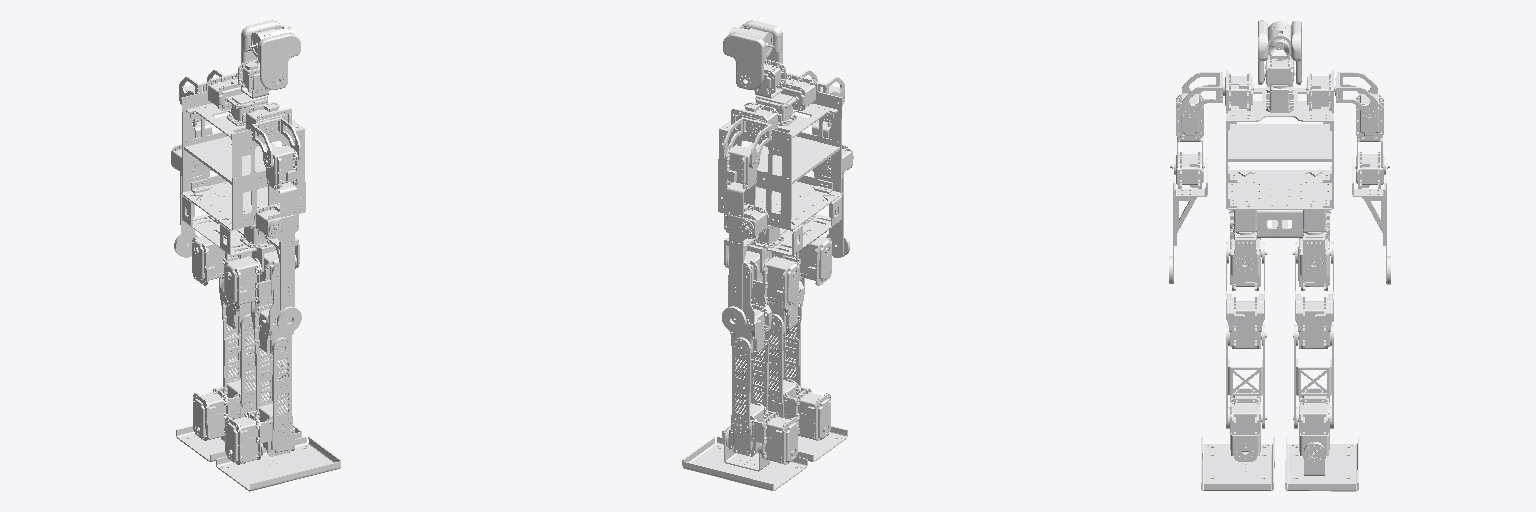
--- Render facts (derived) ---
Views: 3 orthographic renders of the robot side by side, from view 1: azimuth 30°, elevation 25°; view 2: azimuth 150°, elevation 25°; view 3: azimuth 270°, elevation 25°.
Model altair with 26 links and 25 joints (20 revolute, 5 fixed), rooted at odom, posed every joint at zero.
Visible links, largest first — view 1: body_link, r_ank_roll_link, head_tilt_link, r_ank_pitch_link, r_sho_roll_link, r_knee_link, r_hip_roll_link, l_ank_pitch_link, l_knee_link, r_el_link, r_hip_pitch_link, l_hip_roll_link (+6 smaller); view 2: body_link, head_tilt_link, l_ank_pitch_link, l_sole, l_sho_roll_link, l_knee_link, l_hip_roll_link, r_ank_pitch_link, r_knee_link, l_el_link, l_hip_pitch_link, r_hip_roll_link (+7 smaller); view 3: body_link, r_ank_roll_link, l_sole, r_ank_pitch_link, l_sho_roll_link, r_sho_roll_link, l_hip_pitch_link, r_hip_pitch_link, head_tilt_link, l_ank_pitch_link, l_knee_link, r_knee_link (+10 smaller).
Boxes of the visible links, x1,y1,x2,y2 form: body_link: (181,72,305,256); r_ank_roll_link: (216,437,340,491); head_tilt_link: (241,20,300,89); r_ank_pitch_link: (225,403,294,464); r_sho_roll_link: (256,145,298,238); r_knee_link: (255,337,291,434); r_hip_roll_link: (224,251,278,309); l_ank_pitch_link: (193,380,260,440); l_knee_link: (223,314,255,410); r_el_link: (254,214,301,332); r_hip_pitch_link: (251,261,293,356); l_hip_roll_link: (192,230,242,285); body_link: (718,73,842,256); head_tilt_link: (723,20,782,89); l_ank_pitch_link: (728,403,798,464); l_sole: (682,436,807,490); l_sho_roll_link: (724,144,766,238); l_knee_link: (732,337,768,434); l_hip_roll_link: (744,251,799,309); r_ank_pitch_link: (763,380,830,440); r_knee_link: (768,314,800,410); l_el_link: (722,213,768,332); l_hip_pitch_link: (730,261,772,356); r_hip_roll_link: (781,230,831,285); body_link: (1219,70,1340,237); r_ank_roll_link: (1201,437,1274,490); l_sole: (1285,437,1358,491); r_ank_pitch_link: (1230,388,1266,461); l_sho_roll_link: (1355,93,1389,188); r_sho_roll_link: (1170,93,1204,188); l_hip_pitch_link: (1293,242,1333,348); r_hip_pitch_link: (1226,242,1266,348); head_tilt_link: (1258,20,1301,84); l_ank_pitch_link: (1293,388,1329,458); l_knee_link: (1294,325,1333,428); r_knee_link: (1226,325,1264,428).
Size in the robot's own frame: 0.1585 by 0.2871 by 0.6366 metres.
23 mesh visuals loaded from 22 distinct referenced files (22 binary STL).

The robot description file, URDF, robot "altair":
<?xml version="1.0" ?>
<!-- =================================================================================== -->
<!-- |    This document was autogenerated by xacro from altair_compose.urdf.xacro      | -->
<!-- |    EDITING THIS FILE BY HAND IS NOT RECOMMENDED                                 | -->
<!-- =================================================================================== -->
<robot name="altair">
  <!-- README! -->
  <!-- This is xacro file is for configure ros2_control, managing available hardware: sensors,
  joints, etc.
  This configuration will be used by ros2_control hardware abstraction, there are 20 joints, 1 IMU,
  and 1 Microcontroller hardware.
  There are 3 modes available: 
  1. real_mode: true = ros2_control will call MicrocontrollerHardware and DynamixelHardware. This is
  used for real robot.
  2. mock_mode: true = ros2_control will call GenericSystem. This is used for simulation with mock
  mode. or no pyshics sim, just a mock.
  3. sim_mode: true  = ros2_control will call GazeboSimSystem. This is used for simulation with gazebo
  sim.
  !!! Caution !!! Modes can only be set true for single mode. It cant be true for multiple mode. Set
  it with caution.
  Modes can be set in launch file. -->
  <link name="odom"/>
  <joint name="base_fixed" type="fixed">
    <parent link="odom"/>
    <child link="body_link"/>
    <origin rpy="0 0 0" xyz="0 0 0.0"/>
  </joint>
  <!--   body link-->
  <link name="body_link">
    <visual>
      <origin rpy="0.00000 0.00000 0.00000" xyz="0.00000 0.00000 0.00000"/>
      <geometry>
        <mesh filename="meshes/body.stl" scale="1.00000 1.00000 1.00000"/>
      </geometry>
      <material name="254,254,255.002">
        <color rgba="0.99216 0.99216 1.00000 1.00000"/>
      </material>
    </visual>
    <collision>
      <origin rpy="0.00000 0.00000 0.00000" xyz="0.00000 0.00000 0.00000"/>
      <geometry>
        <mesh filename="meshes/body.stl" scale="1.00000 1.00000 1.00000"/>
      </geometry>
      <material name="254,254,255.002">
        <color rgba="0.99216 0.99216 1.00000 1.00000"/>
      </material>
    </collision>
    <inertial>
      <inertia ixx="0.00639" ixy="-0.00001" ixz="-0.00019" iyy="0.00522" iyz="-0.00003" izz="0.00297"/>
      <origin rpy="0.00000 0.00000 0.00000" xyz="0.00091 -0.00121 0.09355"/>
      <mass value="1.34928"/>
    </inertial>
  </link>
  <!-- imu joint -->
  <joint name="imu_fixed" type="fixed">
    <parent link="body_link"/>
    <child link="imu_link"/>
    <origin rpy="0 0 0" xyz="0 0 0"/>
  </joint>
  <link name="imu_link"/>
  <!-- left hip yaw joint -->
  <joint name="l_hip_yaw" type="revolute">
    <parent link="body_link"/>
    <child link="l_hip_yaw_link"/>
    <origin rpy="0.00000 0.00000 0.00000" xyz="0.02448 0.04340 0.03887"/>
    <axis xyz="0.00000 0.00000 -1.00000"/>
    <limit effort="1000" lower="-2.827433388230814" upper="2.827433388230814" velocity="100"/>
    <dynamics damping="0.1" friction="0.0"/>
  </joint>
  <!-- left hip yaw link -->
  <link name="l_hip_yaw_link">
    <visual>
      <origin rpy="0.00000 0.00000 0.00000" xyz="-0.02809 -0.00006 -0.06018"/>
      <geometry>
        <mesh filename="meshes/l_hip_yaw.stl" scale="1.00000 1.00000 1.00000"/>
      </geometry>
      <material name="254,254,255.002">
        <color rgba="0.99216 0.99216 1.00000 1.00000"/>
      </material>
    </visual>
    <collision>
      <origin rpy="0.00000 0.00000 0.00000" xyz="-0.02809 -0.00006 -0.06018"/>
      <geometry>
        <mesh filename="meshes/l_hip_yaw.stl" scale="1.00000 1.00000 1.00000"/>
      </geometry>
      <material name="254,254,255.002">
        <color rgba="0.99216 0.99216 1.00000 1.00000"/>
      </material>
    </collision>
    <inertial>
      <inertia ixx="3.006331e-06" ixy="0" ixz="0" iyy="5.715429e-06" iyz="0" izz="4.2714855e-06"/>
      <origin rpy="0.00000 0.00000 0.00000" xyz="0.00587 -0.00015 -0.05907"/>
      <mass value="0.01181"/>
    </inertial>
  </link>
  <!-- left hip roll joint -->
  <joint name="l_hip_roll" type="revolute">
    <parent link="l_hip_yaw_link"/>
    <child link="l_hip_roll_link"/>
    <origin rpy="0.00000 0.00000 0.00000" xyz="-0.06106 -0.00006 -0.07670"/>
    <axis xyz="-1.00000 0.00000 0.00000"/>
    <limit effort="1000" lower="-2.827433388230814" upper="2.827433388230814" velocity="100"/>
    <dynamics damping="0.1" friction="0.0"/>
  </joint>
  <!-- left hip roll link -->
  <link name="l_hip_roll_link">
    <visual>
      <origin rpy="0.00000 0.00000 0.00000" xyz="0.03297 -0.00000 0.01652"/>
      <geometry>
        <mesh filename="meshes/l_hip_roll.stl" scale="1.00000 1.00000 1.00000"/>
      </geometry>
      <material name="254,254,255.002">
        <color rgba="0.99216 0.99216 1.00000 1.00000"/>
      </material>
    </visual>
    <collision>
      <origin rpy="0.00000 0.00000 0.00000" xyz="0.03297 -0.00000 0.01652"/>
      <geometry>
        <mesh filename="meshes/l_hip_roll.stl" scale="1.00000 1.00000 1.00000"/>
      </geometry>
      <material name="254,254,255.002">
        <color rgba="0.99216 0.99216 1.00000 1.00000"/>
      </material>
    </collision>
    <inertial>
      <inertia ixx="0.00006" ixy="0.00000" ixz="-0.00001" iyy="0.00016" iyz="0.00000" izz="0.00014"/>
      <origin rpy="0.00000 0.00000 0.00000" xyz="0.03366 -0.00021 -0.01480"/>
      <mass value="0.17886"/>
    </inertial>
  </link>
  <!-- left hip pitch joint -->
  <joint name="l_hip_pitch" type="revolute">
    <parent link="l_hip_roll_link"/>
    <child link="l_hip_pitch_link"/>
    <origin rpy="0.00000 0.00000 0.00000" xyz="0.05652 -0.02942 0.00064"/>
    <axis xyz="0.00000 1.00000 0.00000"/>
    <limit effort="1000" lower="-2.827433388230814" upper="2.827433388230814" velocity="100"/>
    <dynamics damping="0.1" friction="0.0"/>
  </joint>
  <!-- left hip pitch link -->
  <link name="l_hip_pitch_link">
    <visual>
      <origin rpy="0.00000 0.00000 0.00000" xyz="0.00072 0.02934 -0.09142"/>
      <geometry>
        <mesh filename="meshes/l_hip_pitch.stl" scale="1.00000 1.00000 1.00000"/>
      </geometry>
      <material name="254,254,255.002">
        <color rgba="0.99216 0.99216 1.00000 1.00000"/>
      </material>
    </visual>
    <collision>
      <origin rpy="0.00000 0.00000 0.00000" xyz="0.00072 0.02934 -0.09142"/>
      <geometry>
        <mesh filename="meshes/l_hip_pitch.stl" scale="1.00000 1.00000 1.00000"/>
      </geometry>
      <material name="254,254,255.002">
        <color rgba="0.99216 0.99216 1.00000 1.00000"/>
      </material>
    </collision>
    <inertial>
      <inertia ixx="0.00016" ixy="-0.00000" ixz="0.00000" iyy="0.00014" iyz="-0.00001" izz="0.00004"/>
      <origin rpy="0.00000 0.00000 0.00000" xyz="0.00062 0.02954 -0.07102"/>
      <mass value="0.11543"/>
    </inertial>
  </link>
  <!-- left knee joint -->
  <joint name="l_knee" type="revolute">
    <parent link="l_hip_pitch_link"/>
    <child link="l_knee_link"/>
    <origin rpy="0.00000 0.00000 0.00000" xyz="0.00089 -0.00563 -0.11729"/>
    <axis xyz="0.00000 1.00000 0.00000"/>
    <limit effort="1000" lower="-2.827433388230814" upper="2.827433388230814" velocity="100"/>
    <dynamics damping="0.1" friction="0.0"/>
  </joint>
  <!-- left knee link -->
  <link name="l_knee_link">
    <visual>
      <origin rpy="0.00000 0.00000 0.00000" xyz="0.00120 0.03658 -0.05859"/>
      <geometry>
        <mesh filename="meshes/l_knee.stl" scale="1.00000 1.00000 1.00000"/>
      </geometry>
      <material name="254,254,255.002">
        <color rgba="0.99216 0.99216 1.00000 1.00000"/>
      </material>
    </visual>
    <collision>
      <origin rpy="0.00000 0.00000 0.00000" xyz="0.00120 0.03658 -0.05859"/>
      <geometry>
        <mesh filename="meshes/l_knee.stl" scale="1.00000 1.00000 1.00000"/>
      </geometry>
      <material name="254,254,255.002">
        <color rgba="0.99216 0.99216 1.00000 1.00000"/>
      </material>
    </collision>
    <inertial>
      <inertia ixx="0.00006" ixy="-0.00000" ixz="0.00000" iyy="0.00004" iyz="-0.00000" izz="0.00002"/>
      <origin rpy="0.00000 0.00000 0.00000" xyz="0.00138 0.03706 -0.05861"/>
      <mass value="0.04015"/>
    </inertial>
  </link>
  <!-- left ankle pitch joint -->
  <joint name="l_ank_pitch" type="revolute">
    <parent link="l_knee_link"/>
    <child link="l_ank_pitch_link"/>
    <origin rpy="0.00000 0.00000 0.00000" xyz="0.00062 0.04741 -0.11684"/>
    <axis xyz="0.00000 -1.00000 0.00000"/>
    <limit effort="1000" lower="-2.827433388230814" upper="2.827433388230814" velocity="100"/>
    <dynamics damping="0.1" friction="0.0"/>
  </joint>
  <!-- left ankle pitch link -->
  <link name="l_ank_pitch_link">
    <visual>
      <origin rpy="0.00000 0.00000 0.00000" xyz="-0.00066 -0.01275 -0.01491"/>
      <geometry>
        <mesh filename="meshes/l_ank_pitch.stl" scale="1.00000 1.00000 1.00000"/>
      </geometry>
      <material name="254,254,255.002">
        <color rgba="0.99216 0.99216 1.00000 1.00000"/>
      </material>
    </visual>
    <collision>
      <origin rpy="0.00000 0.00000 0.00000" xyz="-0.00066 -0.01275 -0.01491"/>
      <geometry>
        <mesh filename="meshes/l_ank_pitch.stl" scale="1.00000 1.00000 1.00000"/>
      </geometry>
      <material name="254,254,255.002">
        <color rgba="0.99216 0.99216 1.00000 1.00000"/>
      </material>
    </collision>
    <inertial>
      <inertia ixx="0.00006" ixy="0.00000" ixz="0.00000" iyy="0.00016" iyz="0.00000" izz="0.00014"/>
      <origin rpy="0.00000 0.00000 0.00000" xyz="-0.02272 -0.01248 -0.01825"/>
      <mass value="0.17886"/>
    </inertial>
  </link>
  <!-- left ankle roll joint -->
  <joint name="l_ank_roll" type="revolute">
    <parent link="l_ank_pitch_link"/>
    <child link="l_ank_roll_link"/>
    <origin rpy="0.00000 0.00000 0.00000" xyz="0.00651 -0.01247 -0.03586"/>
    <axis xyz="1.00000 0.00000 0.00000"/>
    <limit effort="1000" lower="-2.827433388230814" upper="2.827433388230814" velocity="100"/>
    <dynamics damping="0.1" friction="0.0"/>
  </joint>
  <!-- left ankle roll link -->
  <link name="l_ank_roll_link">
    <visual>
      <origin rpy="0.00000 0.00000 0.00000" xyz="0.00130 0.00747 -0.02698"/>
      <geometry>
        <mesh filename="meshes/l_ank_roll.005.stl" scale="1.00000 1.00000 1.00000"/>
      </geometry>
      <material name="254,254,255.002">
        <color rgba="0.99216 0.99216 1.00000 1.00000"/>
      </material>
    </visual>
    <collision>
      <origin rpy="0.00000 0.00000 0.00000" xyz="0.00130 0.00747 -0.02698"/>
      <geometry>
        <mesh filename="meshes/l_ank_roll.005.stl" scale="1.00000 1.00000 1.00000"/>
      </geometry>
      <material name="254,254,255.002">
        <color rgba="0.99216 0.99216 1.00000 1.00000"/>
      </material>
    </collision>
    <inertial>
      <inertia ixx="0.00007" ixy="0.00000" ixz="0.00000" iyy="0.00014" iyz="0.00000" izz="0.00018"/>
      <origin rpy="0.00000 0.00000 0.00000" xyz="0.00130 0.00747 -0.02698"/>
      <mass value="0.06934"/>
    </inertial>
  </link>
  <joint name="l_sole_joint" type="fixed">
    <origin rpy="0.00000 0.00000 0.00000" xyz="-0.00000 0.00747 -0.03327"/>
    <parent link="l_ank_roll_link"/>
    <child link="l_sole"/>
  </joint>
  <link name="l_sole">
    <collision name="l_ank_roll_collision">
      <origin rpy="0.00000 0.00000 0.00000" xyz="-0.00330 0.00294 0.00309"/>
      <geometry>
        <box size="0.14500 0.09500 0.01200"/>
      </geometry>
    </collision>
    <inertial>
      <inertia ixx="0.00001" ixy="-0.00000" ixz="-0.00000" iyy="0.00002" iyz="-0.00000" izz="0.00003"/>
      <origin rpy="0.00000 0.00000 0.00000" xyz="-0.00064 0.00279 -0.00004"/>
      <mass value="0.01000"/>
    </inertial>
    <visual>
      <origin rpy="0.00000 0.00000 0.00000" xyz="0.00130 0.00000 0.00629"/>
      <material name="254,254,255.002">
        <color rgba="0.99216 0.99216 1.00000 1.00000"/>
      </material>
      <geometry>
        <mesh filename="meshes/l_ank_roll.stl" scale="1.00000 1.00000 1.00000"/>
      </geometry>
    </visual>
  </link>
  <!-- right hip yaw joint -->
  <joint name="r_hip_yaw" type="revolute">
    <parent link="body_link"/>
    <child link="r_hip_yaw_link"/>
    <origin rpy="0.00000 0.00000 0.00000" xyz="0.02401 -0.04596 0.03887"/>
    <axis xyz="0.00000 0.00000 -1.00000"/>
    <limit effort="1000" lower="-2.827433388230814" upper="2.827433388230814" velocity="100"/>
    <dynamics damping="0.1" friction="0.0"/>
  </joint>
  <!-- right hip yaw link -->
  <link name="r_hip_yaw_link">
    <visual>
      <origin rpy="0.00000 0.00000 0.00000" xyz="-0.02389 0.00050 -0.08787"/>
      <geometry>
        <mesh filename="meshes/r_hip_yaw.stl" scale="1.00000 1.00000 1.00000"/>
      </geometry>
      <material name="254,254,255.002">
        <color rgba="0.99216 0.99216 1.00000 1.00000"/>
      </material>
    </visual>
    <collision>
      <origin rpy="0.00000 0.00000 0.00000" xyz="-0.02389 0.00050 -0.08787"/>
      <geometry>
        <mesh filename="meshes/r_hip_yaw.stl" scale="1.00000 1.00000 1.00000"/>
      </geometry>
      <material name="254,254,255.002">
        <color rgba="0.99216 0.99216 1.00000 1.00000"/>
      </material>
    </collision>
    <inertial>
      <inertia ixx="3.0e-06" ixy="0" ixz="0" iyy="5.7e-06" iyz="0" izz="4.0e-06"/>
      <origin rpy="0.00000 0.00000 0.00000" xyz="0.00609 0.00022 -0.05911"/>
      <mass value="0.01181"/>
    </inertial>
  </link>
  <!-- right hip roll joint -->
  <joint name="r_hip_roll" type="revolute">
    <parent link="r_hip_yaw_link"/>
    <child link="r_hip_roll_link"/>
    <origin rpy="0.00000 0.00000 0.00000" xyz="-0.06059 0.00050 -0.07670"/>
    <axis xyz="-1.00000 0.00000 0.00000"/>
    <limit effort="1000" lower="-2.827433388230814" upper="2.827433388230814" velocity="100"/>
    <dynamics damping="0.1" friction="0.0"/>
  </joint>
  <!-- right hip roll link -->
  <link name="r_hip_roll_link">
    <visual>
      <origin rpy="0.00000 0.00000 0.00000" xyz="0.03670 0.00000 -0.01117"/>
      <geometry>
        <mesh filename="meshes/r_hip_roll.stl" scale="1.00000 1.00000 1.00000"/>
      </geometry>
      <material name="254,254,255.002">
        <color rgba="0.99216 0.99216 1.00000 1.00000"/>
      </material>
    </visual>
    <collision>
      <origin rpy="0.00000 0.00000 0.00000" xyz="0.03670 0.00000 -0.01117"/>
      <geometry>
        <mesh filename="meshes/r_hip_roll.stl" scale="1.00000 1.00000 1.00000"/>
      </geometry>
      <material name="254,254,255.002">
        <color rgba="0.99216 0.99216 1.00000 1.00000"/>
      </material>
    </collision>
    <inertial>
      <inertia ixx="0.00006" ixy="-0.00000" ixz="-0.00001" iyy="0.00016" iyz="-0.00000" izz="0.00014"/>
      <origin rpy="0.00000 0.00000 0.00000" xyz="0.03342 0.00003 -0.01483"/>
      <mass value="0.17886"/>
    </inertial>
  </link>
  <!-- right hip pitch joint -->
  <joint name="r_hip_pitch" type="revolute">
    <parent link="r_hip_roll_link"/>
    <child link="r_hip_pitch_link"/>
    <origin rpy="0.00000 0.00000 0.00000" xyz="0.05652 0.03126 0.00064"/>
    <axis xyz="0.00000 -1.00000 0.00000"/>
    <limit effort="1000" lower="-2.827433388230814" upper="2.827433388230814" velocity="100"/>
    <dynamics damping="0.1" friction="0.0"/>
  </joint>
  <!-- right hip pitch link -->
  <link name="r_hip_pitch_link">
    <visual>
      <origin rpy="0.00000 0.00000 0.00000" xyz="0.00047 -0.03141 -0.09145"/>
      <geometry>
        <mesh filename="meshes/r_hip_pitch.stl" scale="1.00000 1.00000 1.00000"/>
      </geometry>
      <material name="254,254,255.002">
        <color rgba="0.99216 0.99216 1.00000 1.00000"/>
      </material>
    </visual>
    <collision>
      <origin rpy="0.00000 0.00000 0.00000" xyz="0.00047 -0.03141 -0.09145"/>
      <geometry>
        <mesh filename="meshes/r_hip_pitch.stl" scale="1.00000 1.00000 1.00000"/>
      </geometry>
      <material name="254,254,255.002">
        <color rgba="0.99216 0.99216 1.00000 1.00000"/>
      </material>
    </collision>
    <inertial>
      <inertia ixx="0.00016" ixy="-0.00000" ixz="0.00000" iyy="0.00014" iyz="0.00001" izz="0.00004"/>
      <origin rpy="0.00000 0.00000 0.00000" xyz="0.00037 -0.03163 -0.07105"/>
      <mass value="0.11543"/>
    </inertial>
  </link>
  <!-- right knee joint -->
  <joint name="r_knee" type="revolute">
    <parent link="r_hip_pitch_link"/>
    <child link="r_knee_link"/>
    <origin rpy="0.00000 0.00000 0.00000" xyz="0.00089 0.00527 -0.11729"/>
    <axis xyz="0.00000 -1.00000 0.00000"/>
    <limit effort="1000" lower="-2.827433388230814" upper="2.827433388230814" velocity="100"/>
    <dynamics damping="0.1" friction="0.0"/>
  </joint>
  <!-- right knee link -->
  <link name="r_knee_link">
    <visual>
      <origin rpy="0.00000 0.00000 0.00000" xyz="0.00095 -0.03861 -0.05870"/>
      <geometry>
        <mesh filename="meshes/r_knee.stl" scale="1.00000 1.00000 1.00000"/>
      </geometry>
      <material name="254,254,255.002">
        <color rgba="0.99216 0.99216 1.00000 1.00000"/>
      </material>
    </visual>
    <collision>
      <origin rpy="0.00000 0.00000 0.00000" xyz="0.00095 -0.03861 -0.05870"/>
      <geometry>
        <mesh filename="meshes/r_knee.stl" scale="1.00000 1.00000 1.00000"/>
      </geometry>
      <material name="254,254,255.002">
        <color rgba="0.99216 0.99216 1.00000 1.00000"/>
      </material>
    </collision>
    <inertial>
      <inertia ixx="0.00006" ixy="-0.00000" ixz="0.00000" iyy="0.00004" iyz="0.00000" izz="0.00002"/>
      <origin rpy="0.00000 0.00000 0.00000" xyz="0.00112 -0.03905 -0.05871"/>
      <mass value="0.04015"/>
    </inertial>
  </link>
  <!-- right ankle pitch joint -->
  <joint name="r_ank_pitch" type="revolute">
    <parent link="r_knee_link"/>
    <child link="r_ank_pitch_link"/>
    <origin rpy="0.00000 0.00000 0.00000" xyz="0.00062 -0.05112 -0.11684"/>
    <axis xyz="0.00000 1.00000 0.00000"/>
    <limit effort="1000" lower="-2.827433388230814" upper="2.827433388230814" velocity="100"/>
    <dynamics damping="0.1" friction="0.0"/>
  </joint>
  <!-- right ankle pitch link -->
  <link name="r_ank_pitch_link">
    <visual>
      <origin rpy="0.00000 0.00000 0.00000" xyz="-0.02296 0.01471 -0.01828"/>
      <geometry>
        <mesh filename="meshes/r_ank_pitch.stl" scale="1.00000 1.00000 1.00000"/>
      </geometry>
      <material name="254,254,255.002">
        <color rgba="0.99216 0.99216 1.00000 1.00000"/>
      </material>
    </visual>
    <collision>
      <origin rpy="0.00000 0.00000 0.00000" xyz="-0.02296 0.01471 -0.01828"/>
      <geometry>
        <mesh filename="meshes/r_ank_pitch.stl" scale="1.00000 1.00000 1.00000"/>
      </geometry>
      <material name="254,254,255.002">
        <color rgba="0.99216 0.99216 1.00000 1.00000"/>
      </material>
    </collision>
    <inertial>
      <inertia ixx="0.00006" ixy="-0.00000" ixz="0.00000" iyy="0.00016" iyz="-0.00000" izz="0.00014"/>
      <origin rpy="0.00000 0.00000 0.00000" xyz="-0.02296 0.01471 -0.01828"/>
      <mass value="0.17886"/>
    </inertial>
  </link>
  <!-- right ankle roll joint -->
  <joint name="r_ank_roll" type="revolute">
    <parent link="r_ank_pitch_link"/>
    <child link="r_ank_roll_link"/>
    <origin rpy="0.00000 0.00000 0.00000" xyz="0.00651 0.01433 -0.03586"/>
    <axis xyz="1.00000 0.00000 0.00000"/>
    <limit effort="1000" lower="-2.827433388230814" upper="2.827433388230814" velocity="100"/>
    <dynamics damping="0.1" friction="0.0"/>
  </joint>
  <!-- right ankle roll link -->
  <link name="r_ank_roll_link">
    <visual>
      <origin rpy="0.00000 0.00000 0.00000" xyz="-0.00000 -0.00773 -0.02925"/>
      <geometry>
        <mesh filename="meshes/r_ank_roll.005.stl" scale="1.00000 1.00000 1.00000"/>
      </geometry>
      <material name="254,254,255.002">
        <color rgba="0.99216 0.99216 1.00000 1.00000"/>
      </material>
    </visual>
    <collision>
      <origin rpy="0.00000 0.00000 0.00000" xyz="-0.00000 -0.00773 -0.02925"/>
      <geometry>
        <mesh filename="meshes/r_ank_roll.005.stl" scale="1.00000 1.00000 1.00000"/>
      </geometry>
      <material name="254,254,255.002">
        <color rgba="0.99216 0.99216 1.00000 1.00000"/>
      </material>
    </collision>
    <inertial>
      <inertia ixx="0.00007" ixy="0.00000" ixz="0.00000" iyy="0.00014" iyz="0.00000" izz="0.00018"/>
      <origin rpy="0.00000 0.00000 0.00000" xyz="-0.00000 -0.00773 -0.02925"/>
      <mass value="0.06934"/>
    </inertial>
  </link>
  <joint name="r_sole_joint" type="fixed">
    <origin rpy="0.00000 0.00000 0.00000" xyz="-0.00000 -0.00773 -0.03327"/>
    <parent link="r_ank_roll_link"/>
    <child link="r_sole"/>
  </joint>
  <link name="r_sole">
    <collision name="r_ank_roll_collision">
      <origin rpy="0.00000 0.00000 0.00000" xyz="-0.00330 -0.00255 0.00309"/>
      <geometry>
        <box size="0.14500 0.09500 0.01200"/>
      </geometry>
    </collision>
    <inertial>
      <inertia ixx="0.00001" ixy="0.00000" ixz="-0.00000" iyy="0.00002" iyz="0.00000" izz="0.00003"/>
      <origin rpy="0.00000 0.00000 0.00000" xyz="-0.00094 -0.00227 -0.00008"/>
      <mass value="0.01000"/>
    </inertial>
    <visual>
      <origin rpy="0.00000 0.00000 0.00000" xyz="0.00000 -0.00000 0.00402"/>
      <material name="254,254,255.002">
        <color rgba="0.99216 0.99216 1.00000 1.00000"/>
      </material>
      <geometry>
        <mesh filename="meshes/r_ank_roll.005.stl" scale="1.00000 1.00000 1.00000"/>
      </geometry>
    </visual>
  </link>
  <!-- left shoulder pitch joint -->
  <joint name="l_sho_pitch" type="revolute">
    <parent link="body_link"/>
    <child link="l_sho_pitch_link"/>
    <origin rpy="0.00000 0.00000 0.00000" xyz="-0.00676 0.06539 0.18530"/>
    <axis xyz="0.00000 1.00000 0.00000"/>
    <limit effort="1000" lower="-2.827433388230814" upper="2.827433388230814" velocity="100"/>
    <dynamics damping="0.1" friction="0.0"/>
  </joint>
  <!-- left shoulder pitch link -->
  <link name="l_sho_pitch_link">
    <visual>
      <origin rpy="0.00000 0.00000 0.00000" xyz="-0.00064 0.02750 -0.00646"/>
      <geometry>
        <mesh filename="meshes/l_sho_pitch.stl" scale="1.00000 1.00000 1.00000"/>
      </geometry>
      <material name="254,254,255.002">
        <color rgba="0.99216 0.99216 1.00000 1.00000"/>
      </material>
    </visual>
    <collision>
      <origin rpy="0.00000 0.00000 0.00000" xyz="-0.00064 0.02750 -0.00646"/>
      <geometry>
        <mesh filename="meshes/l_sho_pitch.stl" scale="1.00000 1.00000 1.00000"/>
      </geometry>
      <material name="254,254,255.002">
        <color rgba="0.99216 0.99216 1.00000 1.00000"/>
      </material>
    </collision>
    <inertial>
      <inertia ixx="5.4e-06" ixy="0" ixz="0" iyy="4.7e-06" iyz="0" izz="5.1e-06"/>
      <origin rpy="0.00000 0.00000 0.00000" xyz="-0.00072 0.02775 -0.00669"/>
      <mass value="0.01176"/>
    </inertial>
  </link>
  <!-- left shoulder roll joint -->
  <joint name="l_sho_roll" type="revolute">
    <parent link="l_sho_pitch_link"/>
    <child link="l_sho_roll_link"/>
    <origin rpy="0.00000 0.00000 0.00000" xyz="-0.00378 0.04958 -0.02794"/>
    <axis xyz="-1.00000 0.00000 0.00000"/>
    <limit effort="1000" lower="-2.827433388230814" upper="2.827433388230814" velocity="100"/>
    <dynamics damping="0.1" friction="0.0"/>
  </joint>
  <!-- left shoulder roll link -->
  <link name="l_sho_roll_link">
    <visual>
      <origin rpy="0.00000 0.00000 0.00000" xyz="0.00000 -0.00000 -0.05204"/>
      <geometry>
        <mesh filename="meshes/l_sho_roll.stl" scale="1.00000 1.00000 1.00013"/>
      </geometry>
      <material name="254,254,255.002">
        <color rgba="0.99216 0.99216 1.00000 1.00000"/>
      </material>
    </visual>
    <collision>
      <origin rpy="0.00000 0.00000 0.00000" xyz="0.00000 -0.00000 -0.05204"/>
      <geometry>
        <mesh filename="meshes/l_sho_roll.stl" scale="1.00000 1.00000 1.00013"/>
      </geometry>
      <material name="254,254,255.002">
        <color rgba="0.99216 0.99216 1.00000 1.00000"/>
      </material>
    </collision>
    <inertial>
      <inertia ixx="0.00021" ixy="0.00000" ixz="-0.00002" iyy="0.00022" iyz="0.00000" izz="0.00004"/>
      <origin rpy="0.00000 0.00000 0.00000" xyz="0.00000 -0.00000 -0.05204"/>
      <mass value="0.17758"/>
    </inertial>
  </link>
  <!-- left elbow joint -->
  <joint name="l_el" type="revolute">
    <parent link="l_sho_roll_link"/>
    <child link="l_el_link"/>
    <origin rpy="0.00000 0.00000 0.00000" xyz="-0.01599 0.01357 -0.09291"/>
    <axis xyz="0.00000 1.00000 0.00000"/>
    <limit effort="1000" lower="-2.827433388230814" upper="2.827433388230814" velocity="100"/>
    <dynamics damping="0.1" friction="0.0"/>
  </joint>
  <!-- left elbow link -->
  <link name="l_el_link">
    <visual>
      <origin rpy="0.00000 0.00000 0.00000" xyz="0.01579 0.00000 -0.07402"/>
      <geometry>
        <mesh filename="meshes/l_el.stl" scale="1.00000 1.00000 1.00000"/>
      </geometry>
      <material name="254,254,255.002">
        <color rgba="0.99216 0.99216 1.00000 1.00000"/>
      </material>
    </visual>
    <collision>
      <origin rpy="0.00000 0.00000 0.00000" xyz="0.01579 0.00000 -0.07402"/>
      <geometry>
        <mesh filename="meshes/l_el.stl" scale="1.00000 1.00000 1.00000"/>
      </geometry>
      <material name="254,254,255.002">
        <color rgba="0.99216 0.99216 1.00000 1.00000"/>
      </material>
    </collision>
    <inertial>
      <inertia ixx="0.00011" ixy="0" ixz="0" iyy="0.00011" iyz="0" izz="0.00002"/>
      <origin rpy="0.00000 0.00000 0.00000" xyz="0.01530 -0.00132 -0.06628"/>
      <mass value="0.04127"/>
    </inertial>
  </link>
  <!-- right shoulder pitch joint -->
  <joint name="r_sho_pitch" type="revolute">
    <parent link="body_link"/>
    <child link="r_sho_pitch_link"/>
    <origin rpy="0.00000 0.00000 0.00000" xyz="-0.00676 -0.07353 0.18530"/>
    <axis xyz="0.00000 -1.00000 0.00000"/>
    <limit effort="1000" lower="-2.827433388230814" upper="2.827433388230814" velocity="100"/>
    <dynamics damping="0.1" friction="0.0"/>
  </joint>
  <!-- right shoulder pitch link -->
  <link name="r_sho_pitch_link">
    <visual>
      <origin rpy="0.00000 0.00000 0.00000" xyz="-0.00122 -0.02254 -0.01077"/>
      <geometry>
        <mesh filename="meshes/r_sho_pitch.stl" scale="1.00000 1.00000 1.00000"/>
      </geometry>
      <material name="254,254,255.002">
        <color rgba="0.99216 0.99216 1.00000 1.00000"/>
      </material>
    </visual>
    <collision>
      <origin rpy="0.00000 0.00000 0.00000" xyz="-0.00122 -0.02254 -0.01077"/>
      <geometry>
        <mesh filename="meshes/r_sho_pitch.stl" scale="1.00000 1.00000 1.00000"/>
      </geometry>
      <material name="254,254,255.002">
        <color rgba="0.99216 0.99216 1.00000 1.00000"/>
      </material>
    </collision>
    <inertial>
      <inertia ixx="5.4e-06" ixy="0" ixz="0" iyy="4.7e-06" iyz="0" izz="5.1e-06"/>
      <origin rpy="0.00000 0.00000 0.00000" xyz="-0.00120 -0.02209 -0.00678"/>
      <mass value="0.01176"/>
    </inertial>
  </link>
  <!-- right shoulder roll joint -->
  <joint name="r_sho_roll" type="revolute">
    <parent link="r_sho_pitch_link"/>
    <child link="r_sho_roll_link"/>
    <origin rpy="0.00000 0.00000 0.00000" xyz="-0.00442 -0.04381 -0.02762"/>
    <axis xyz="1.00000 0.00000 0.00000"/>
    <limit effort="1000" lower="-2.827433388230814" upper="2.827433388230814" velocity="100"/>
    <dynamics damping="0.1" friction="0.0"/>
  </joint>
  <!-- right shoulder roll link -->
  <link name="r_sho_roll_link">
    <visual>
      <origin rpy="0.00000 0.00000 0.00000" xyz="-0.00000 0.00000 -0.05244"/>
      <geometry>
        <mesh filename="meshes/r_sho_roll.stl" scale="1.00000 1.00000 1.00000"/>
      </geometry>
      <material name="254,254,255.002">
        <color rgba="0.99216 0.99216 1.00000 1.00000"/>
      </material>
    </visual>
    <collision>
      <origin rpy="0.00000 0.00000 0.00000" xyz="-0.00000 0.00000 -0.05244"/>
      <geometry>
        <mesh filename="meshes/r_sho_roll.stl" scale="1.00000 1.00000 1.00000"/>
      </geometry>
      <material name="254,254,255.002">
        <color rgba="0.99216 0.99216 1.00000 1.00000"/>
      </material>
    </collision>
    <inertial>
      <inertia ixx="0.00021" ixy="-0.00000" ixz="-0.00002" iyy="0.00022" iyz="-0.00000" izz="0.00004"/>
      <origin rpy="0.00000 0.00000 0.00000" xyz="-0.00000 0.00000 -0.05244"/>
      <mass value="0.17758"/>
    </inertial>
  </link>
  <!-- right elbow joint -->
  <joint name="r_el" type="revolute">
    <parent link="r_sho_roll_link"/>
    <child link="r_el_link"/>
    <origin rpy="0.00000 0.00000 0.00000" xyz="-0.01605 -0.01348 -0.09326"/>
    <axis xyz="0.00000 -1.00000 0.00000"/>
    <limit effort="1000" lower="-2.827433388230814" upper="2.827433388230814" velocity="100"/>
    <dynamics damping="0.1" friction="0.0"/>
  </joint>
  <!-- right elbow link -->
  <link name="r_el_link">
    <visual>
      <origin rpy="0.00000 0.00000 0.00000" xyz="0.01577 0.00000 -0.07409"/>
      <geometry>
        <mesh filename="meshes/r_el.stl" scale="1.00000 1.00000 1.00000"/>
      </geometry>
      <material name="254,254,255.002">
        <color rgba="0.99216 0.99216 1.00000 1.00000"/>
      </material>
    </visual>
    <collision>
      <origin rpy="0.00000 0.00000 0.00000" xyz="0.01577 0.00000 -0.07409"/>
      <geometry>
        <mesh filename="meshes/r_el.stl" scale="1.00000 1.00000 1.00000"/>
      </geometry>
      <material name="254,254,255.002">
        <color rgba="0.99216 0.99216 1.00000 1.00000"/>
      </material>
    </collision>
    <inertial>
      <inertia ixx="0.00011" ixy="0" ixz="0" iyy="0.00011" iyz="0" izz="1.6e-05"/>
      <origin rpy="0.00000 0.00000 0.00000" xyz="0.01529 0.00132 -0.06635"/>
      <mass value="0.04127"/>
    </inertial>
  </link>
  <!-- head pan joint -->
  <joint name="head_pan" type="revolute">
    <parent link="body_link"/>
    <child link="head_pan_link"/>
    <origin rpy="0.00000 0.00000 0.00000" xyz="0.01902 -0.00134 0.18511"/>
    <axis xyz="0 0 1"/>
    <limit effort="1000" lower="-2.827433388230814" upper="2.827433388230814" velocity="100"/>
    <dynamics damping="0.1" friction="0.0"/>
  </joint>
  <!-- head pan link -->
  <link name="head_pan_link">
    <visual>
      <origin rpy="0.00000 0.00000 0.00000" xyz="0.00703 -0.00031 0.04142"/>
      <geometry>
        <mesh filename="meshes/neck.stl" scale="1.00000 1.00000 1.00000"/>
      </geometry>
      <material name="254,254,255.002">
        <color rgba="0.99216 0.99216 1.00000 1.00000"/>
      </material>
    </visual>
    <collision>
      <origin rpy="0.00000 0.00000 0.00000" xyz="0.00703 -0.00031 0.04142"/>
      <geometry>
        <mesh filename="meshes/neck.stl" scale="1.00000 1.00000 1.00000"/>
      </geometry>
      <material name="254,254,255.002">
        <color rgba="0.99216 0.99216 1.00000 1.00000"/>
      </material>
    </collision>
    <inertial>
      <inertia ixx="3.7494437e-06" ixy="0" ixz="0" iyy="4.291624e-06" iyz="0" izz="4.5314214e-06"/>
      <origin rpy="0.00000 0.00000 0.00000" xyz="0.00703 -0.00031 0.04142"/>
      <mass value="0.01176"/>
    </inertial>
  </link>
  <!-- head tilt joint -->
  <joint name="head_tilt" type="revolute">
    <parent link="head_pan_link"/>
    <child link="head_tilt_link"/>
    <origin rpy="0.00000 0.00000 0.00000" xyz="0.01877 -0.00004 0.04264"/>
    <axis xyz="0 -1 0"/>
    <limit effort="1000" lower="-2.827433388230814" upper="2.827433388230814" velocity="100"/>
    <dynamics damping="0.1" friction="0.0"/>
  </joint>
  <!-- head tilt link -->
  <link name="head_tilt_link">
    <visual>
      <origin rpy="0.00000 0.00000 0.00000" xyz="0.00326 0.00000 0.04010"/>
      <geometry>
        <mesh filename="meshes/camera.stl" scale="1.00000 1.00000 1.00000"/>
      </geometry>
      <material name="254,254,255.002">
        <color rgba="0.99216 0.99216 1.00000 1.00000"/>
      </material>
    </visual>
    <collision>
      <origin rpy="0.00000 0.00000 0.00000" xyz="0.00326 0.00000 0.04010"/>
      <geometry>
        <mesh filename="meshes/camera.stl" scale="1.00000 1.00000 1.00000"/>
      </geometry>
      <material name="254,254,255.002">
        <color rgba="0.99216 0.99216 1.00000 1.00000"/>
      </material>
    </collision>
    <inertial>
      <inertia ixx="0.00008" ixy="-0.00000" ixz="-0.00002" iyy="0.00009" iyz="-0.00000" izz="0.00008"/>
      <origin rpy="0.00000 0.00000 0.00000" xyz="0.00375 -0.00000 0.04044"/>
      <mass value="0.13631"/>
    </inertial>
  </link>
  <!-- camera joint -->
  <joint name="camera_joint" type="fixed">
    <parent link="head_tilt_link"/>
    <child link="cam_link"/>
    <origin rpy="-0.00000 1.57080 0.00000" xyz="0.00326 0.00000 0.04677"/>
  </joint>
  <!-- camera link -->
  <link name="cam_link">
    </link>
</robot>
